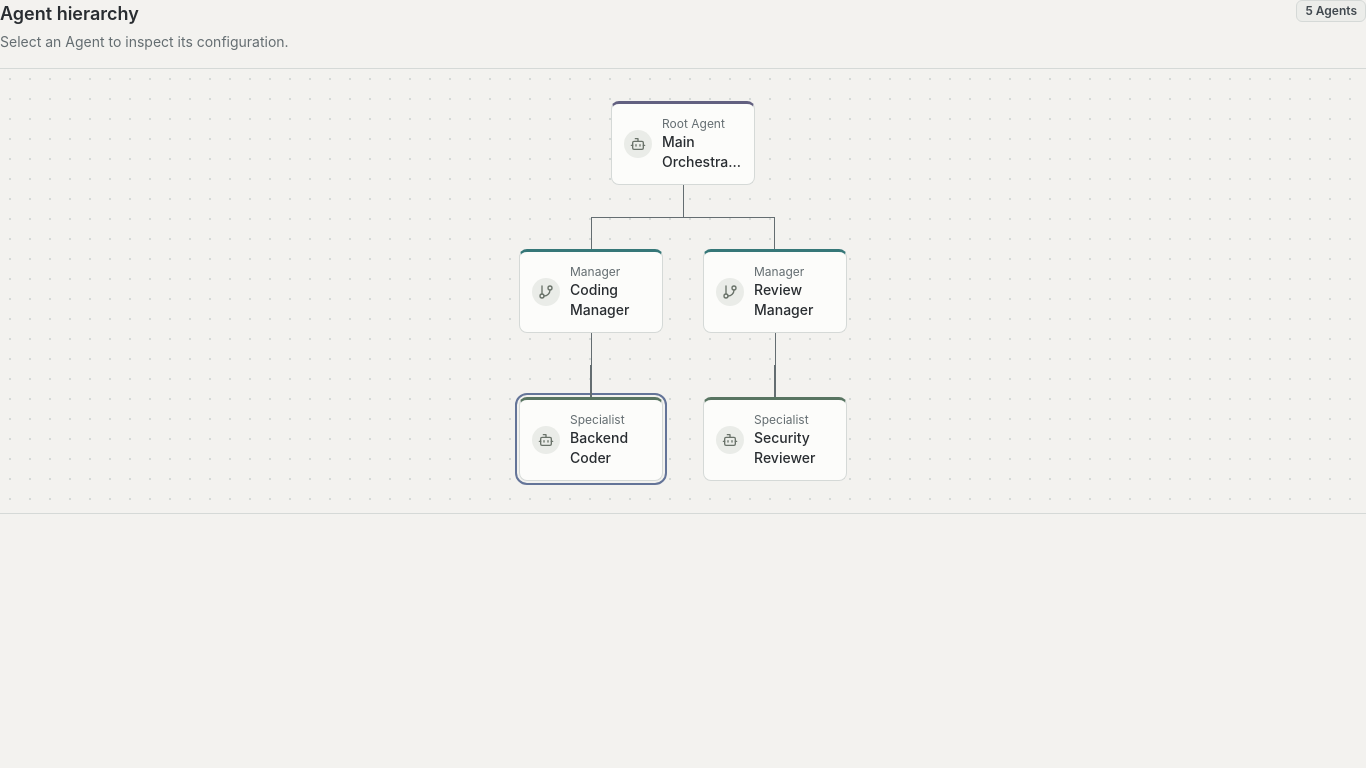
Scenario: Tree hierarchy and Agent details › opens a keyboard-accessible side detail with provider, model and tools, without credentials
The image size is (1366, 768).
Press Enter in the button "Specialist Backend Coder", box top-left (519, 397), bottom-right (663, 481)
Click the button "Specialist Backend Coder".
click(591, 439)  # box top-left (519, 397), bottom-right (663, 481)
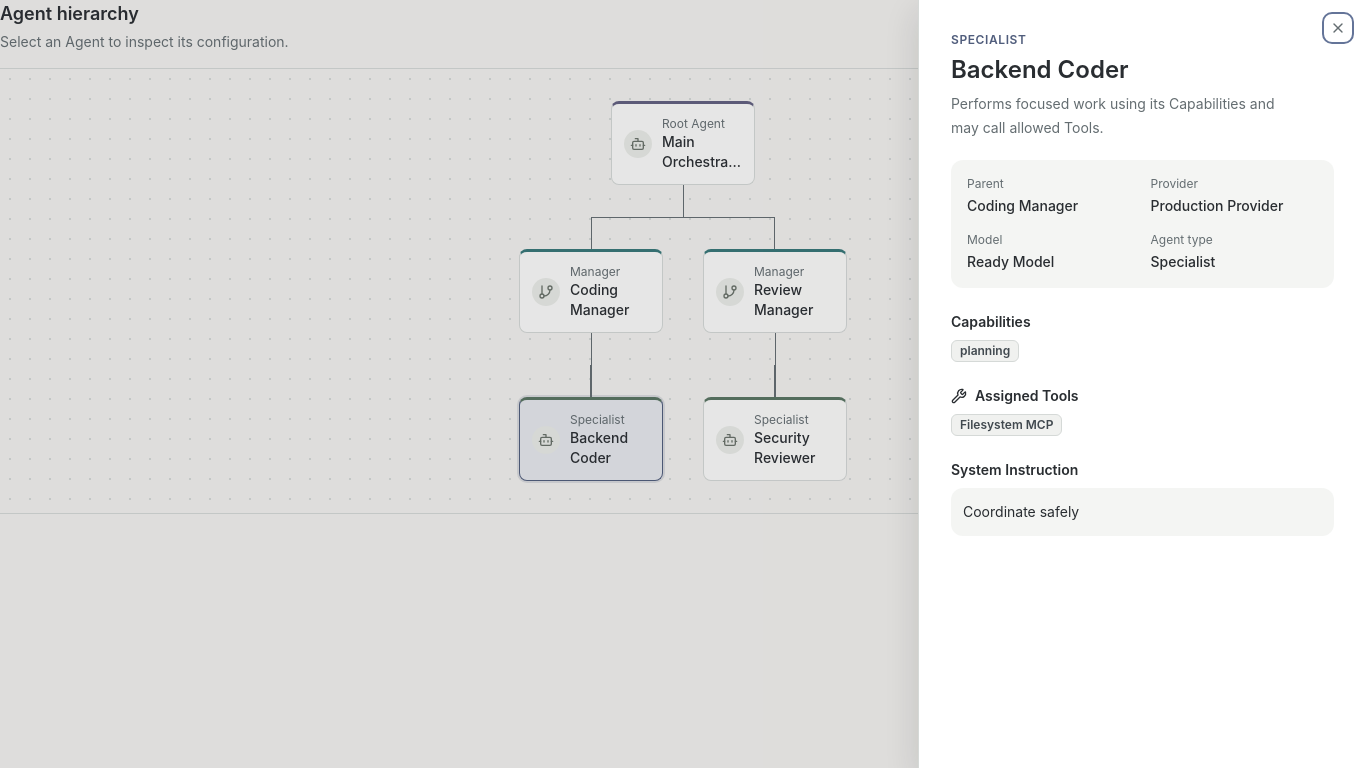
Now the dialog with test id "agent-detail-drawer" is shown, box top-left (918, 0), bottom-right (1365, 767)
Now the text "Production Provider" is shown, box top-left (1150, 197), bottom-right (1283, 214)
Now the text "Ready Model" is shown, box top-left (967, 253), bottom-right (1054, 270)
Click the button named "Close".
click(1338, 28)  # box top-left (1326, 16), bottom-right (1350, 40)
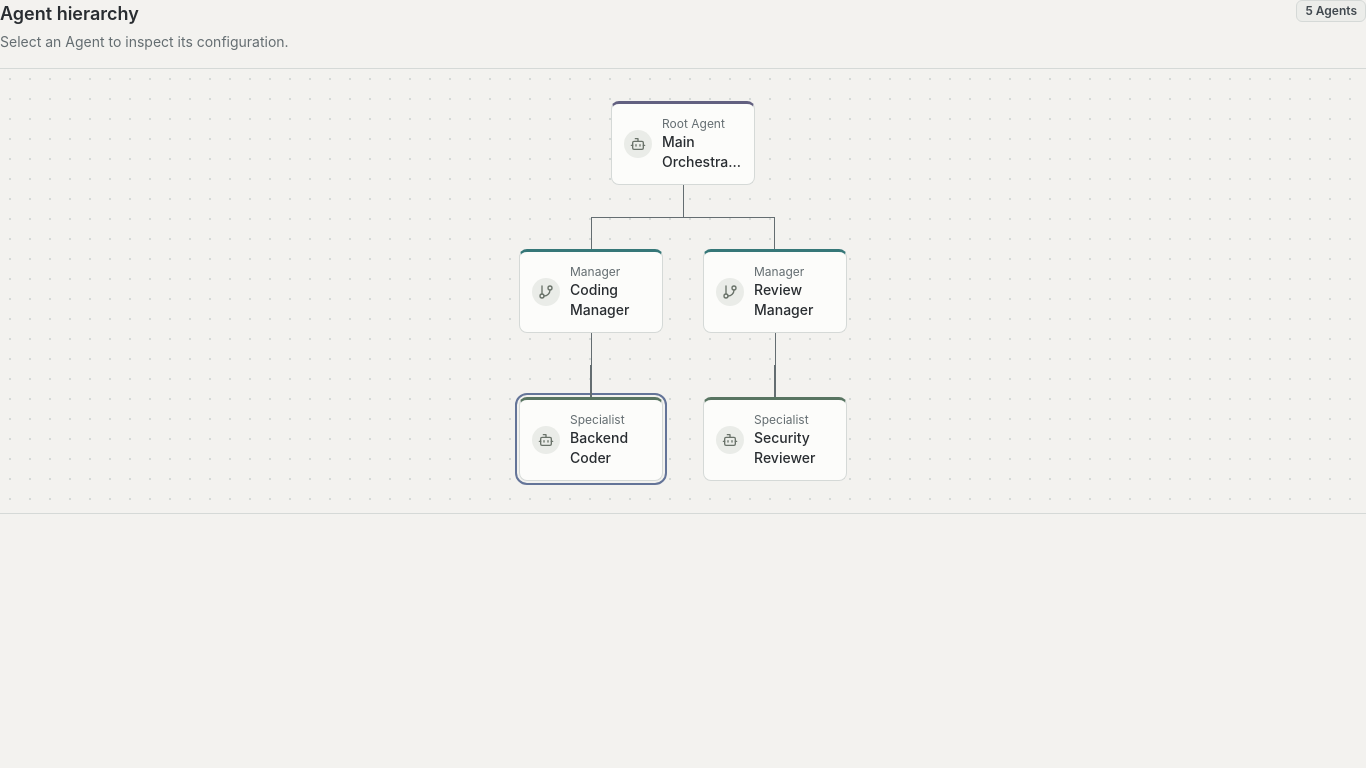
Now the dialog with test id "agent-detail-drawer" is gone
